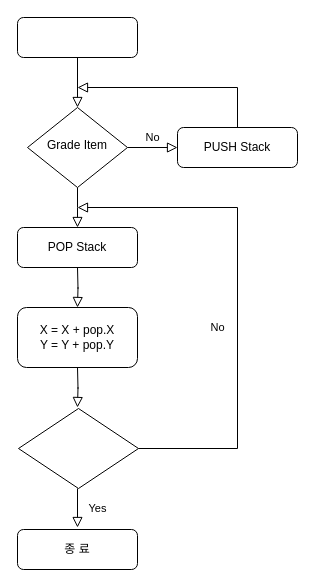
Image size: 315x587. Some labels were removed from this diagram. Each missing label, with the centre of its shape:
"Stack Underflow" goes at [78,448].
"시 작" goes at [77,37].
